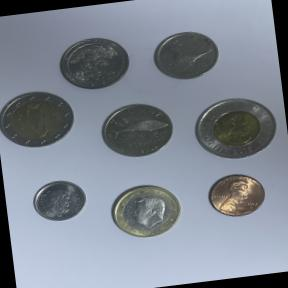coin: (185, 88, 284, 172), (92, 96, 182, 171), (104, 176, 190, 244), (0, 85, 80, 156), (54, 32, 136, 96), (202, 167, 273, 224), (29, 174, 92, 227)
